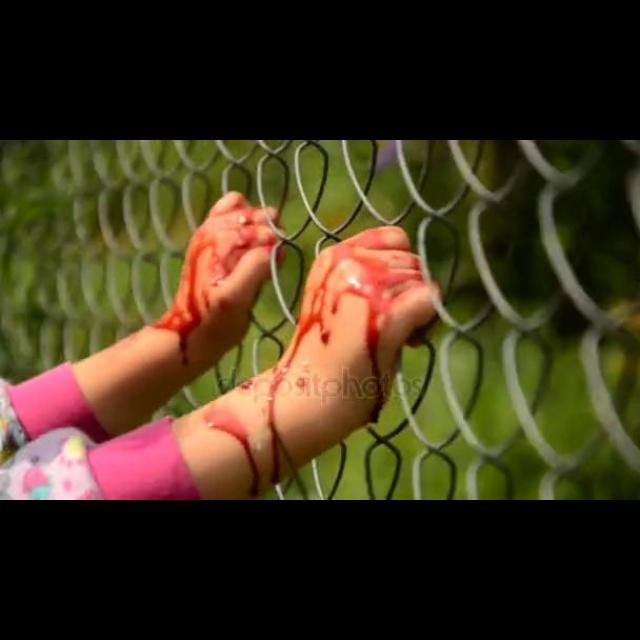blood: (267, 227, 423, 483), (153, 194, 275, 363), (203, 401, 261, 496)
